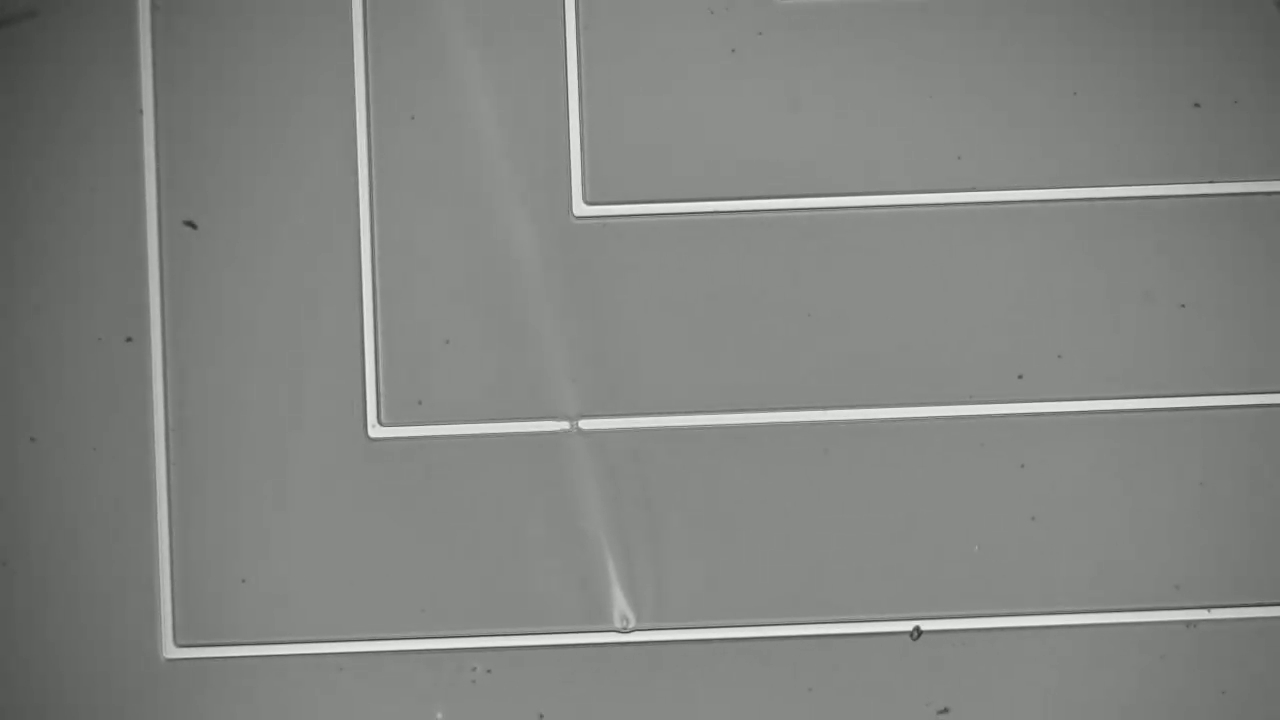open: (554, 410, 598, 448)
stains_enbedded: (895, 610, 932, 647)
